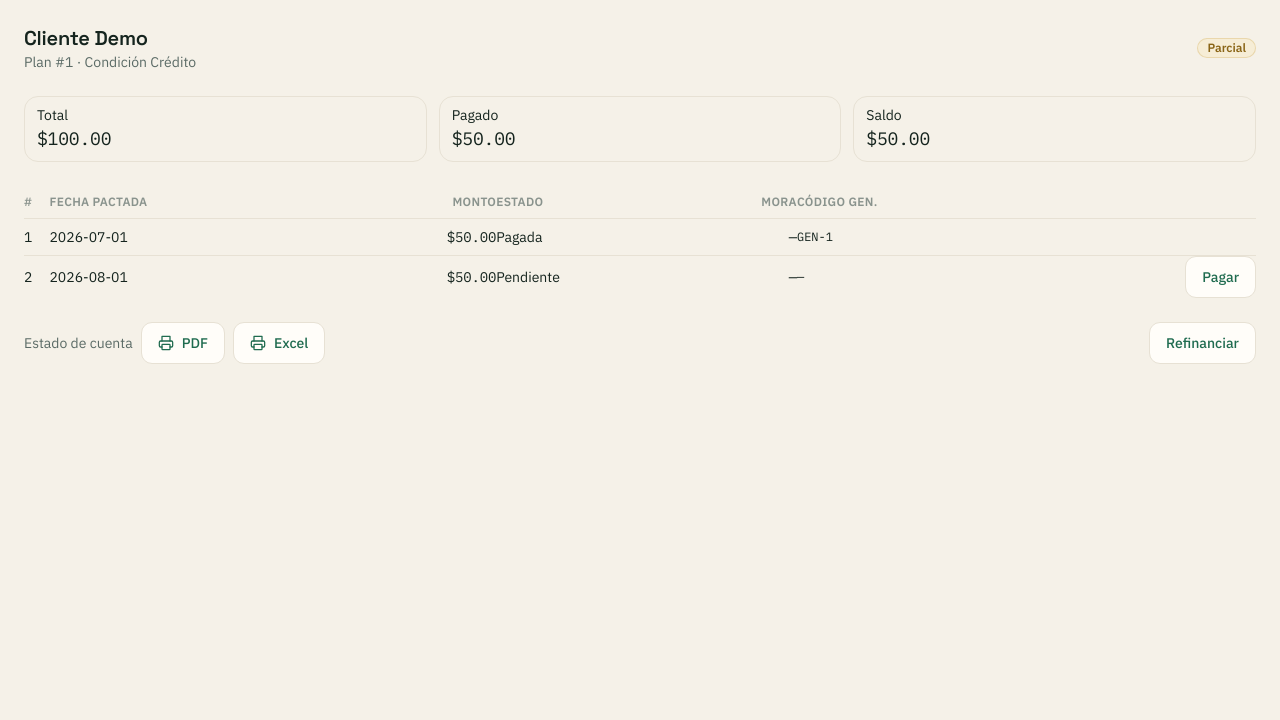
Test: PlanDetallePage › abre el modal de pago al pulsar Pagar
Check: the text "GEN-1" is shown, box [797,218,1041,256]
Click the button "Pagar". click: click(1221, 277)
box: [1185,256,1256,298]
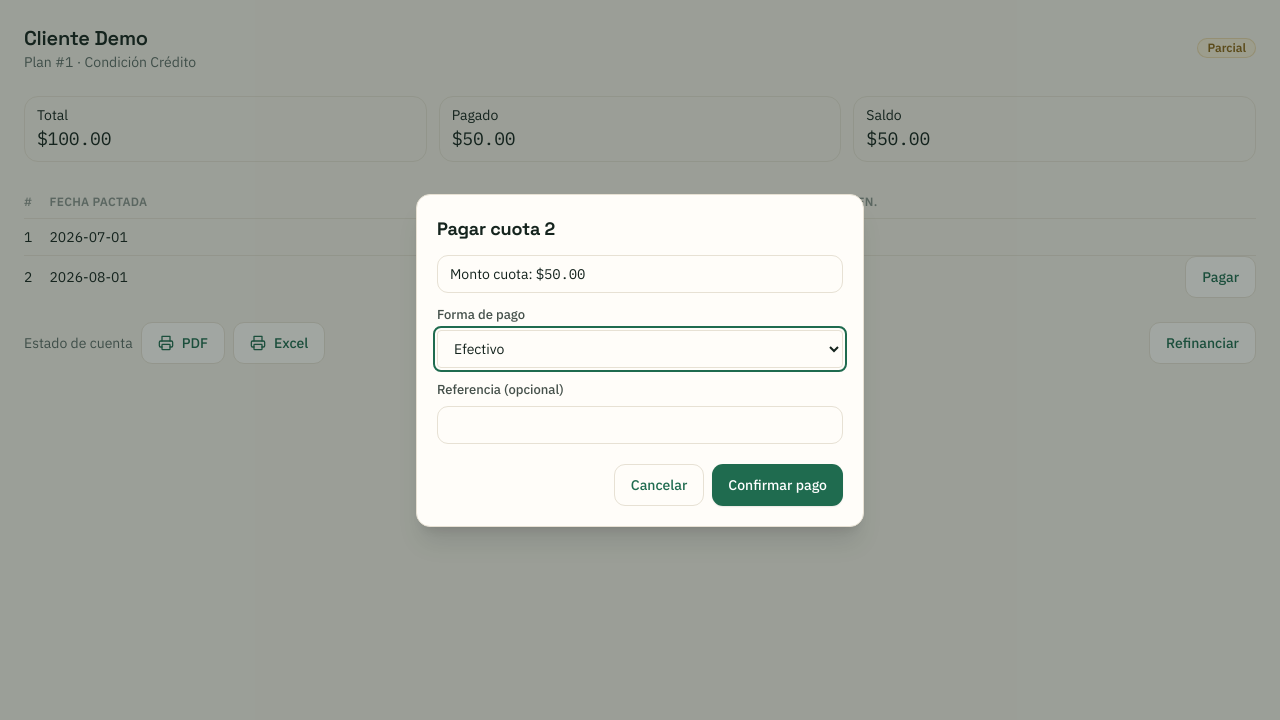
Check: the button "Confirmar pago" is shown, box [712,464,843,506]
